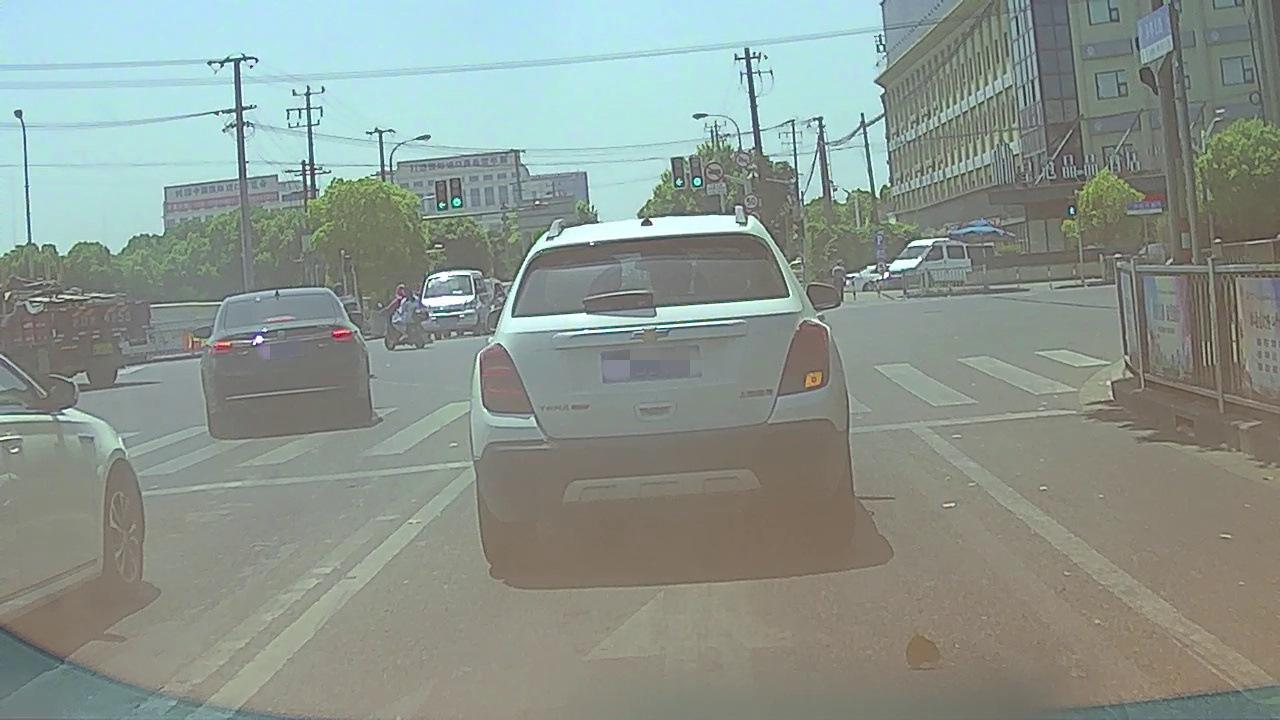traffic_light: (673, 157, 684, 188), (437, 181, 447, 211), (692, 157, 702, 187), (451, 179, 461, 207)
